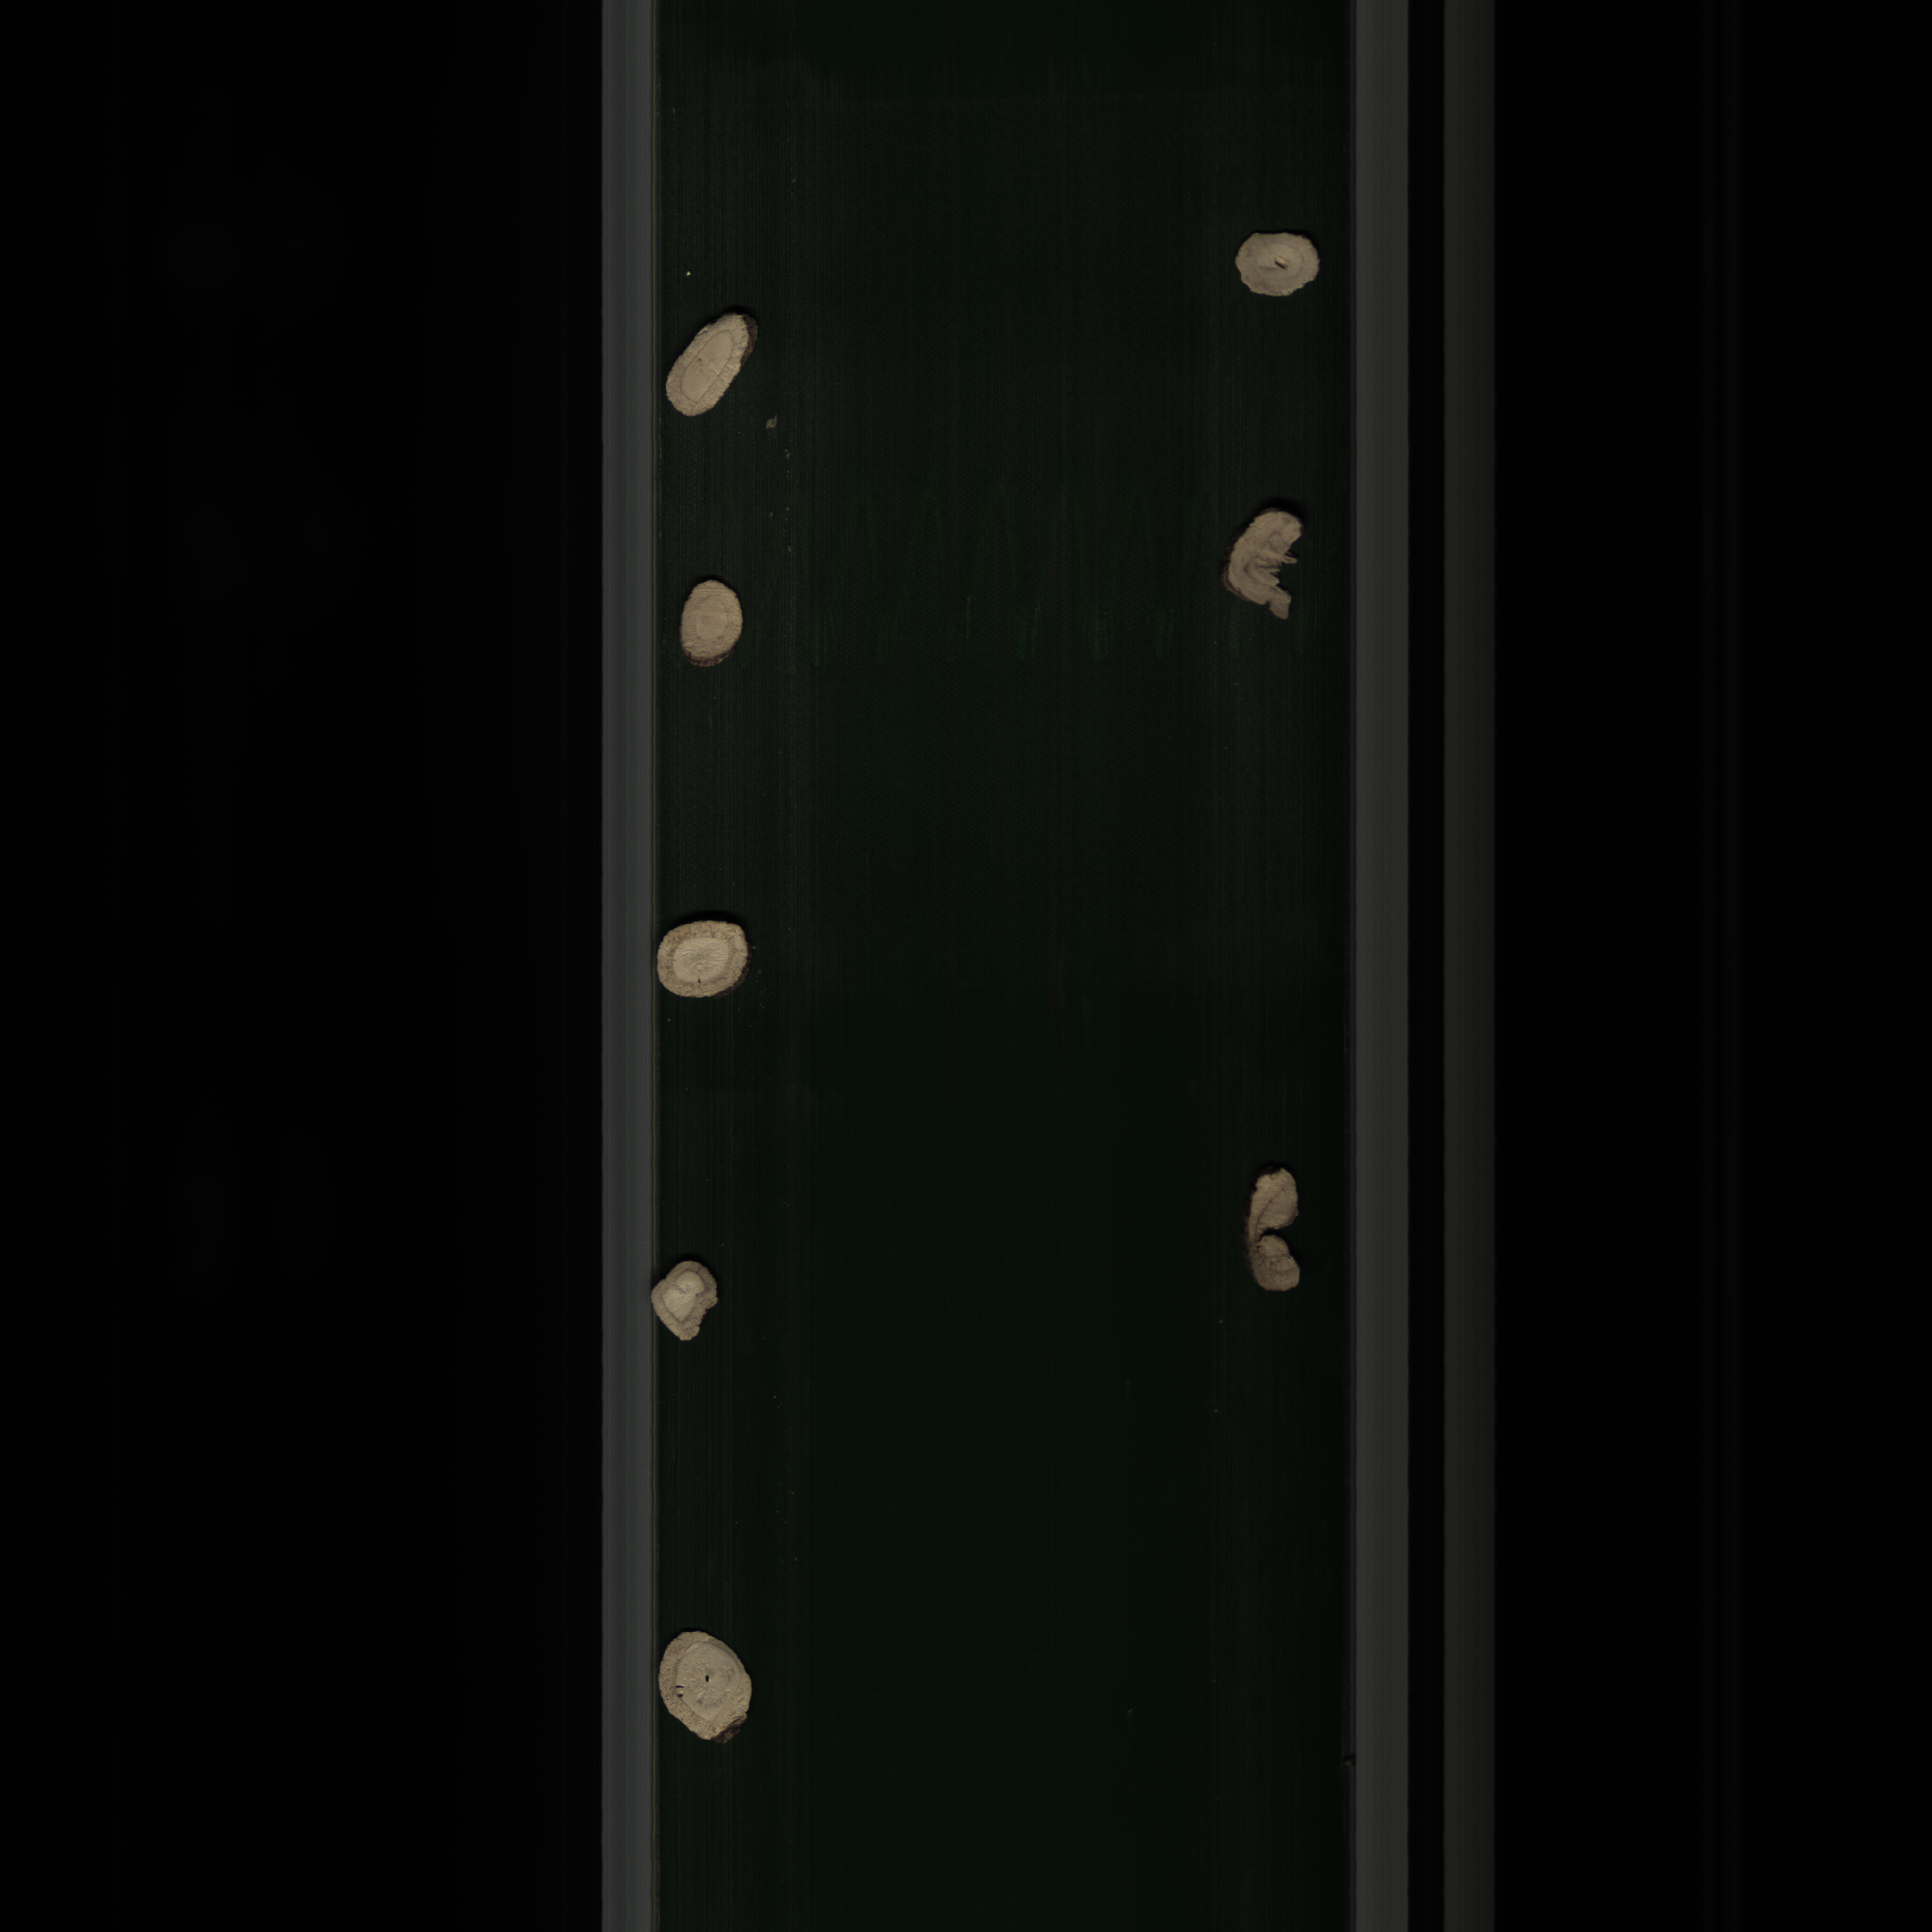debris: (1212, 494, 1323, 625)
hole: (662, 1621, 757, 1755), (1235, 221, 1322, 299)
moldy: (1240, 1159, 1311, 1302)
